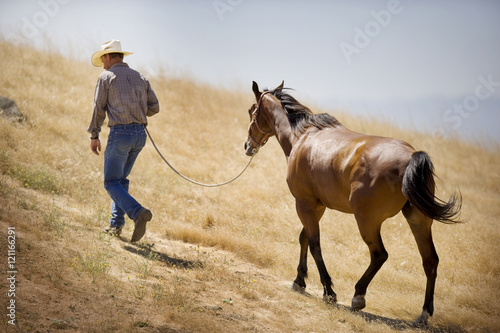Horse: (240, 76, 448, 328)
Person: (73, 32, 170, 245)
